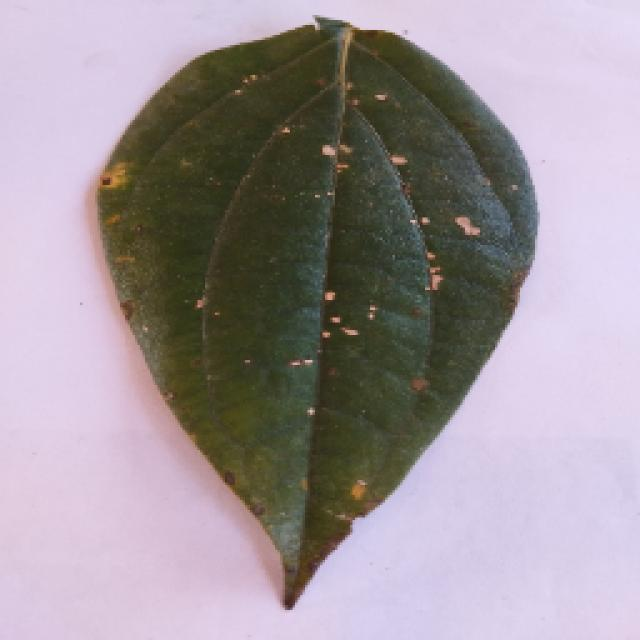pollu-disease: (65, 25, 560, 610)
